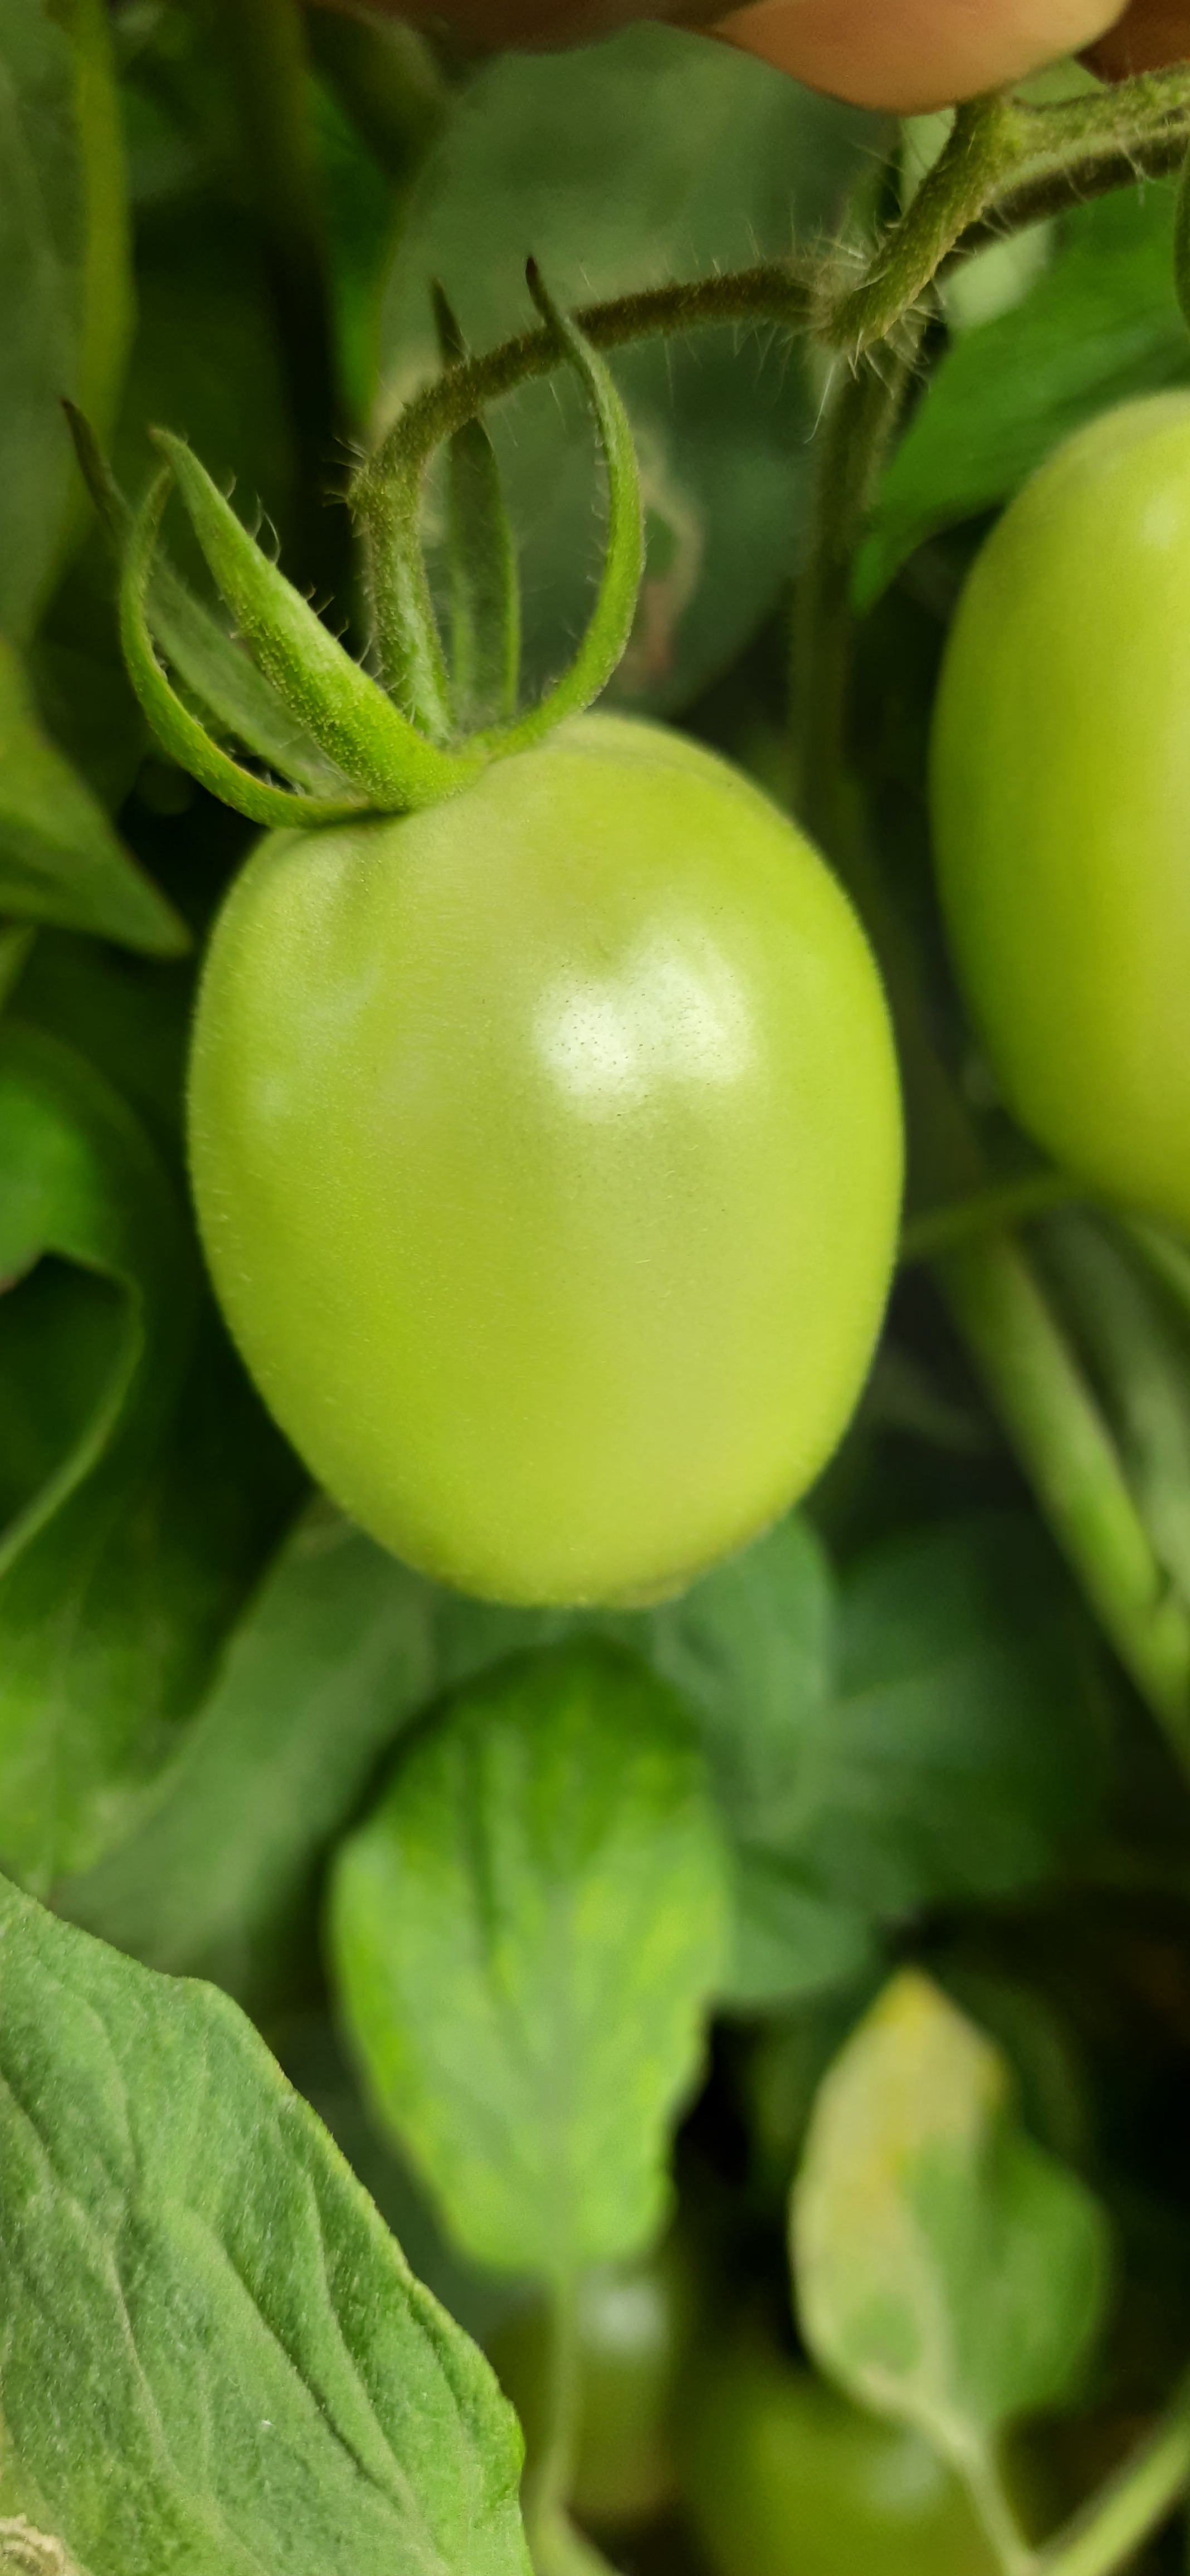raw_tomato: (61, 490, 1017, 1659)
